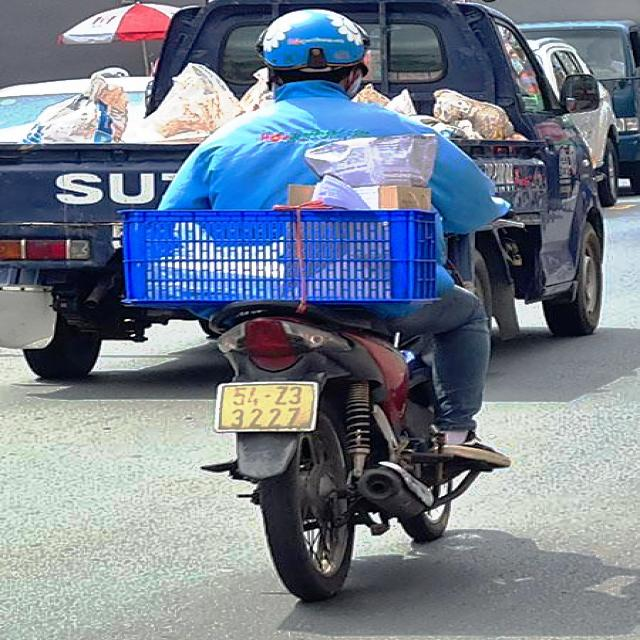license_plate: (219, 383, 314, 431)
